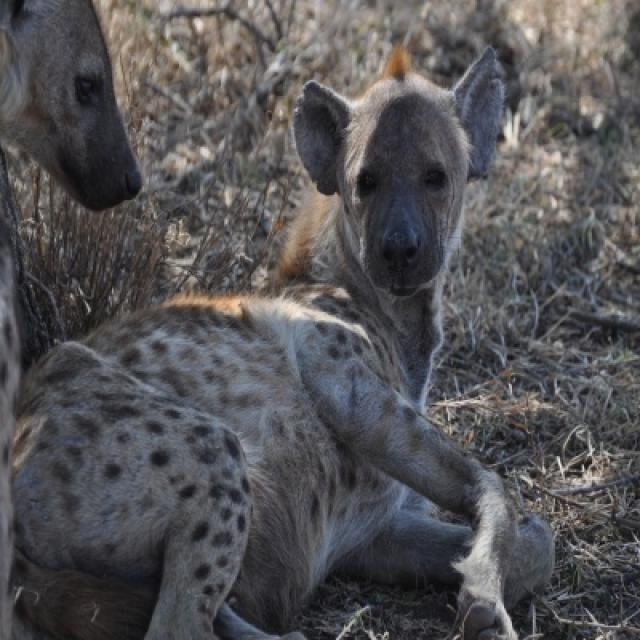hyena: (2, 48, 552, 638), (0, 0, 146, 214)
